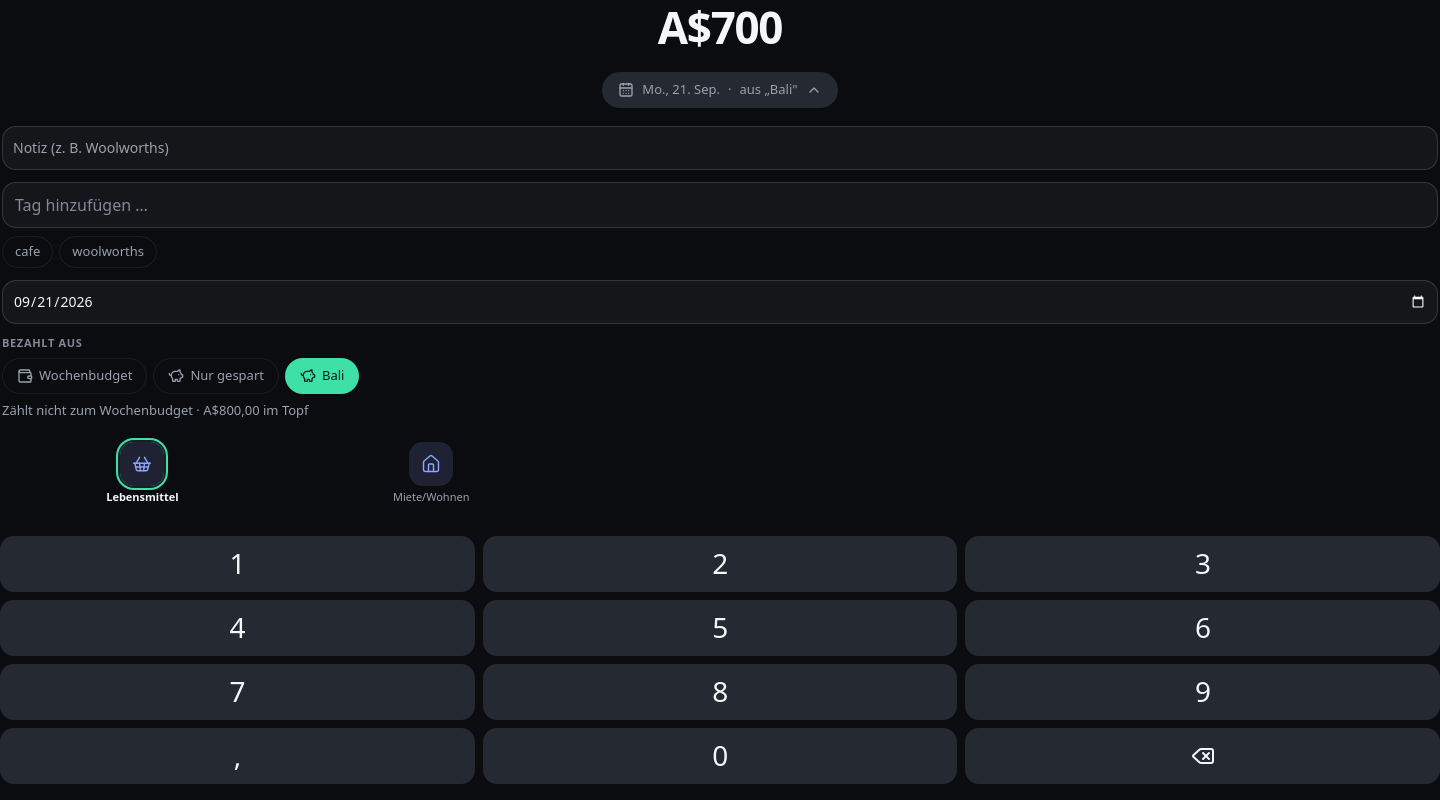
Scenario: ExpenseForm › paid from a pot ("aus Topf bezahlt") › gives an edited expense back what it already holds in its pot
This screenshot has width=1440, height=800.
Expected: the radio button labelled "Bali" is checked, [285,358,360,394]
Expected: the text "Zählt nicht zum Wochenbudget · A$800,00 im Topf" is shown, [2,401,309,419]
Click the button named "Löschen": (1203, 756) [965,728,1439,784]
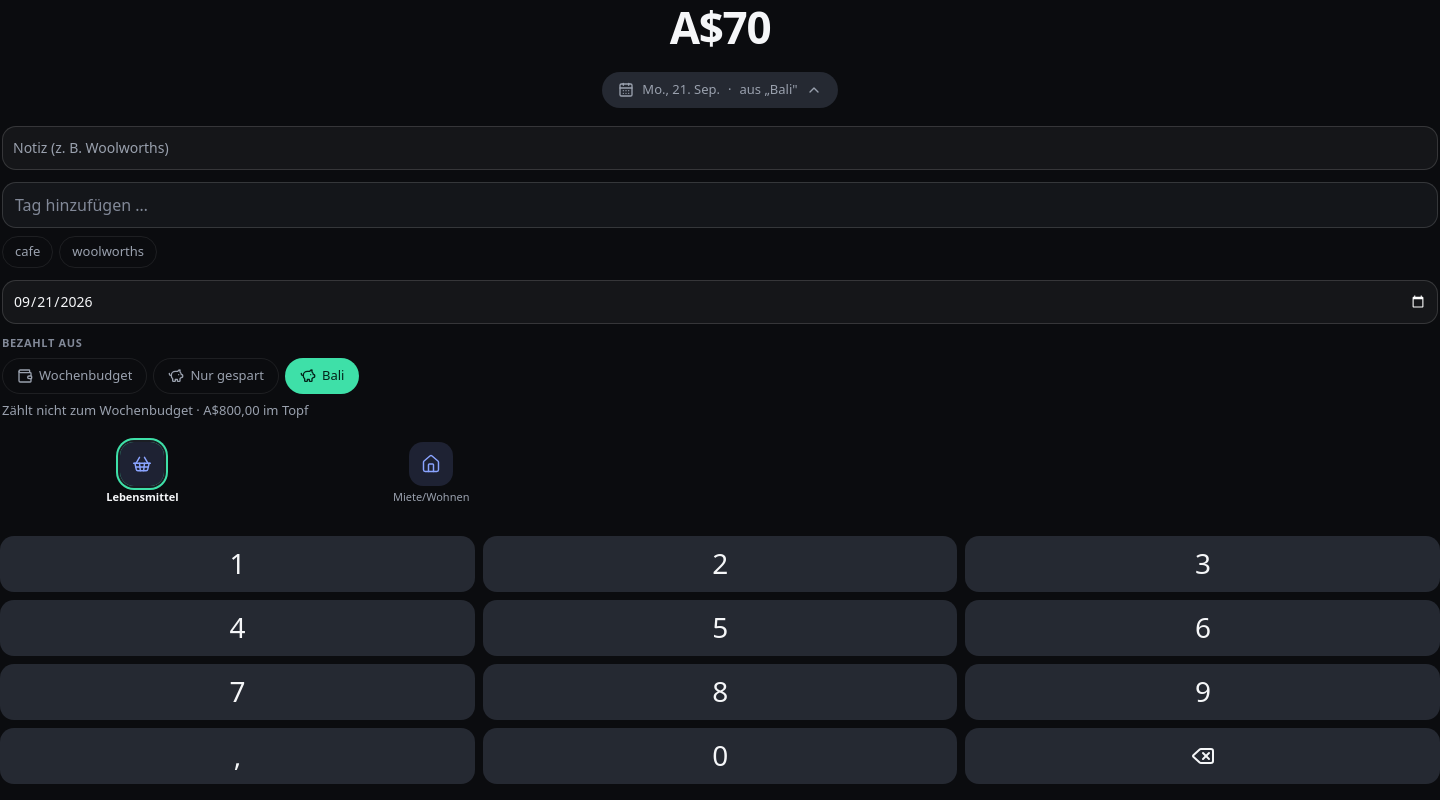
Click the button named "Löschen": (1203, 756) [965,728,1439,784]
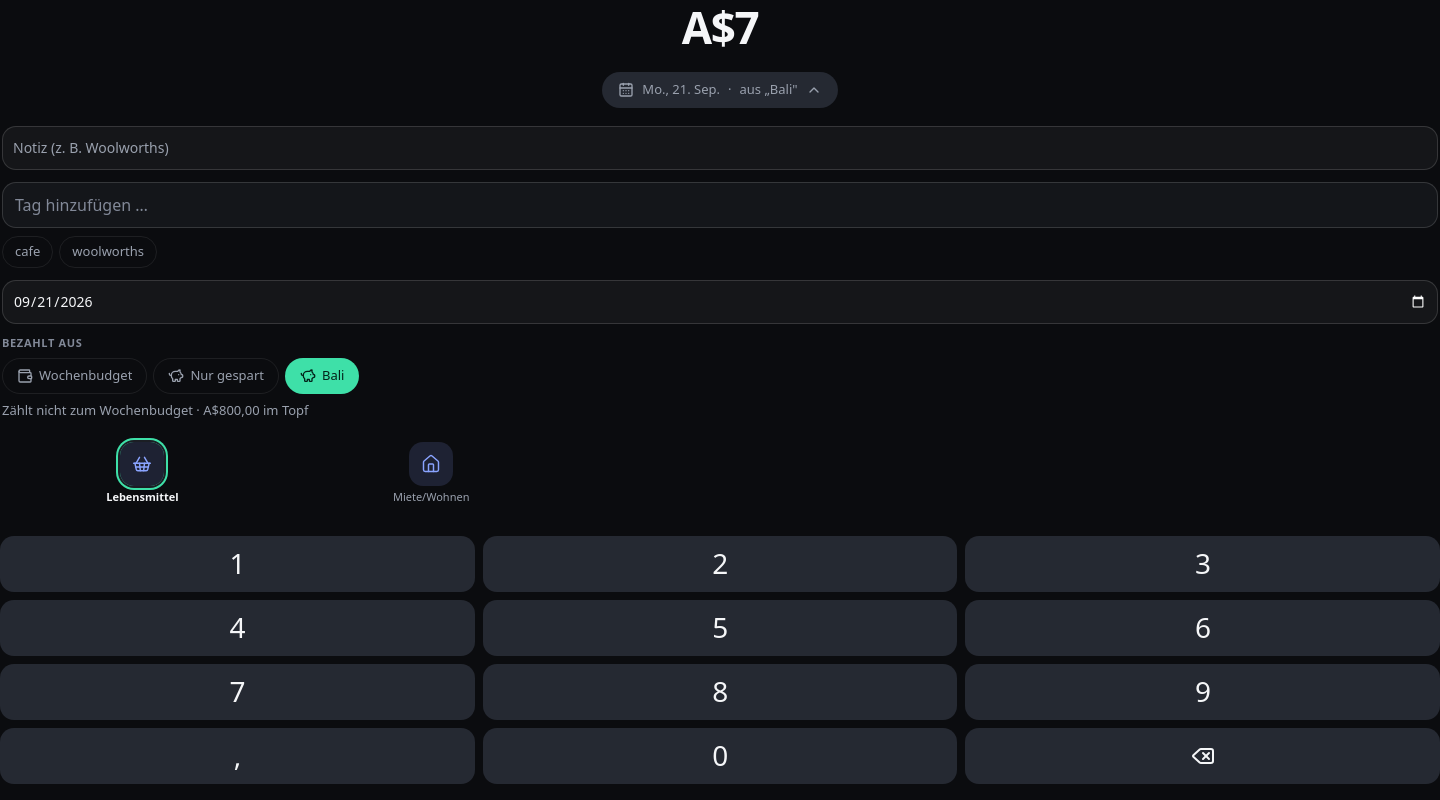
Click the button named "Löschen": (1203, 756) [965,728,1439,784]
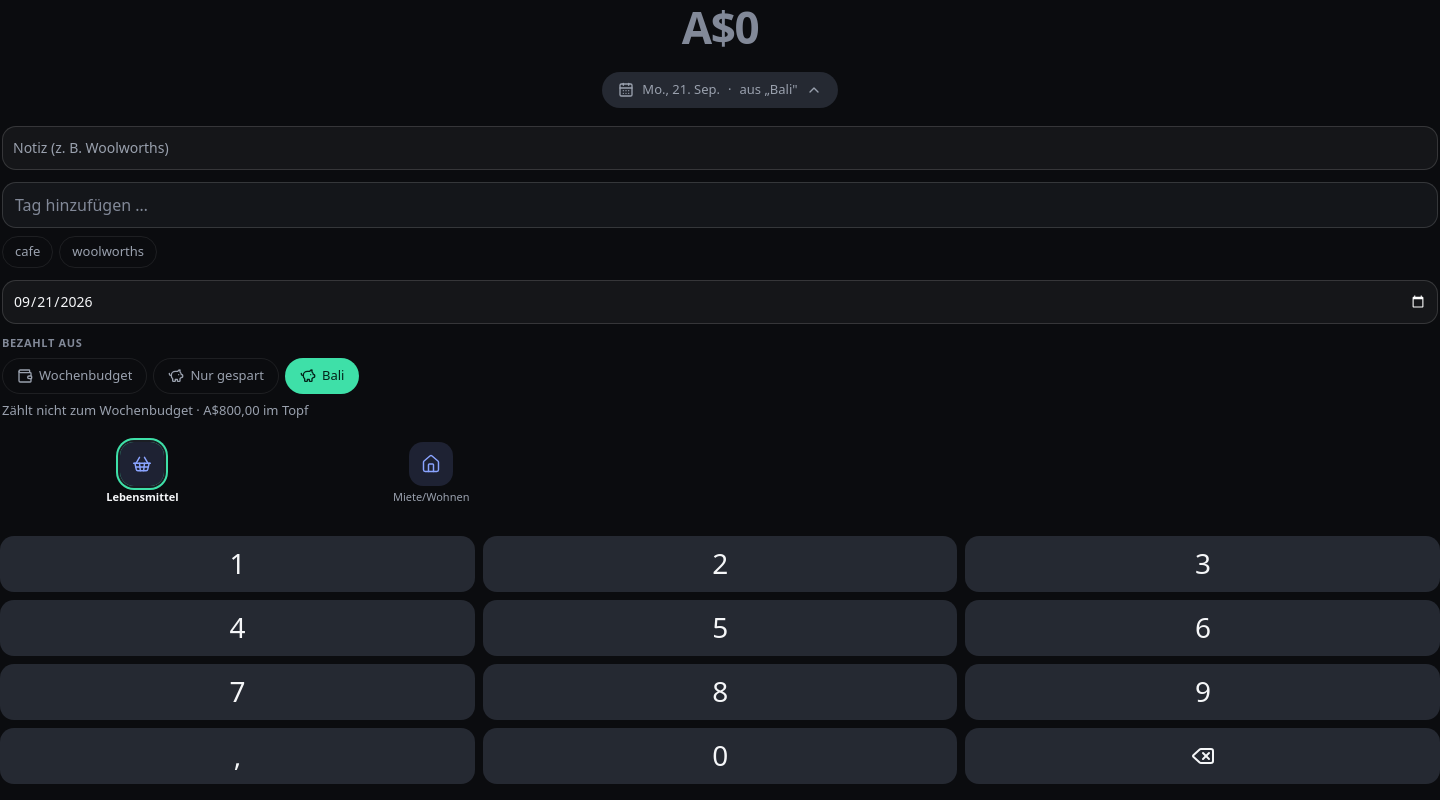
Click the button "8": (720, 692) [483,664,957,720]
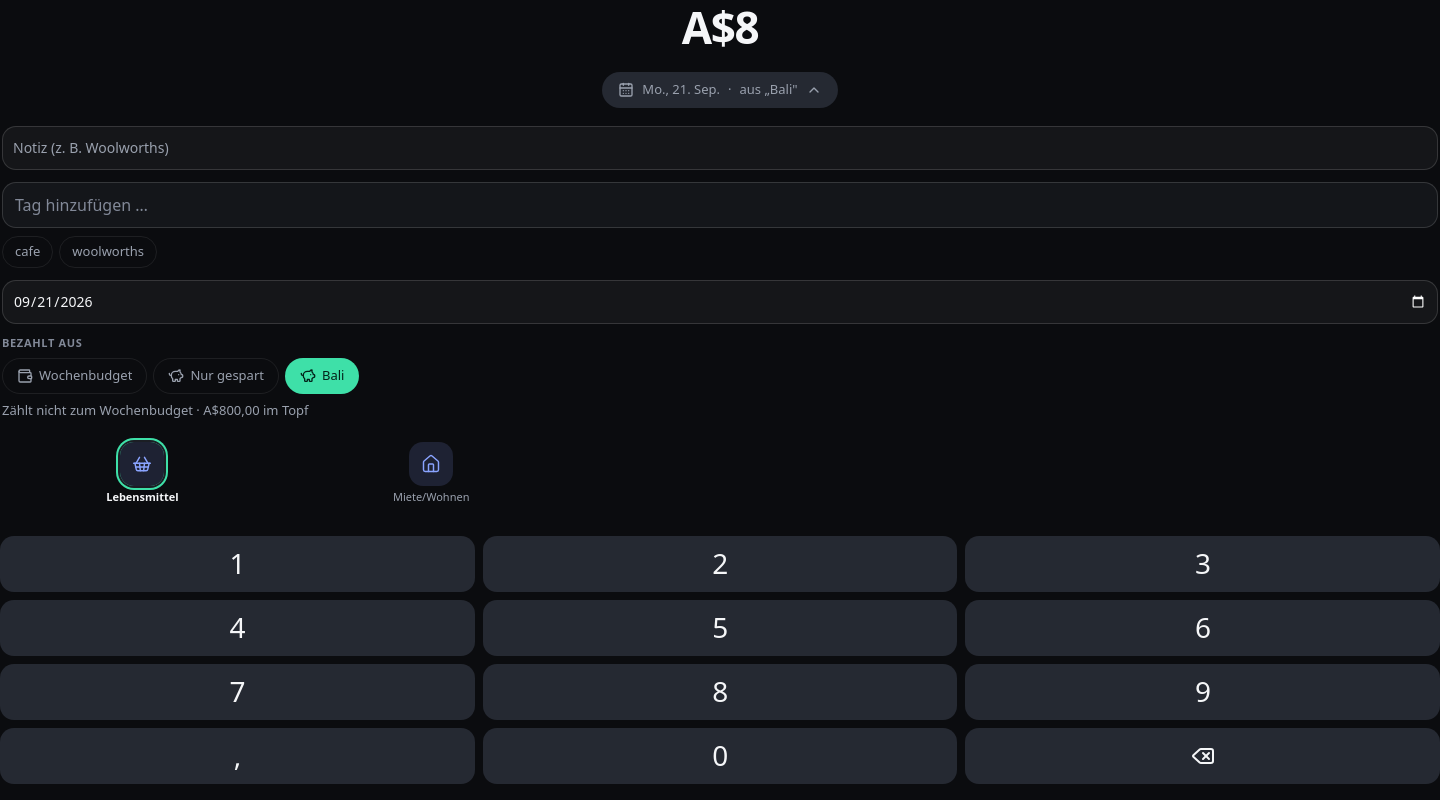
Click the button "0": (720, 756) [483,728,957,784]
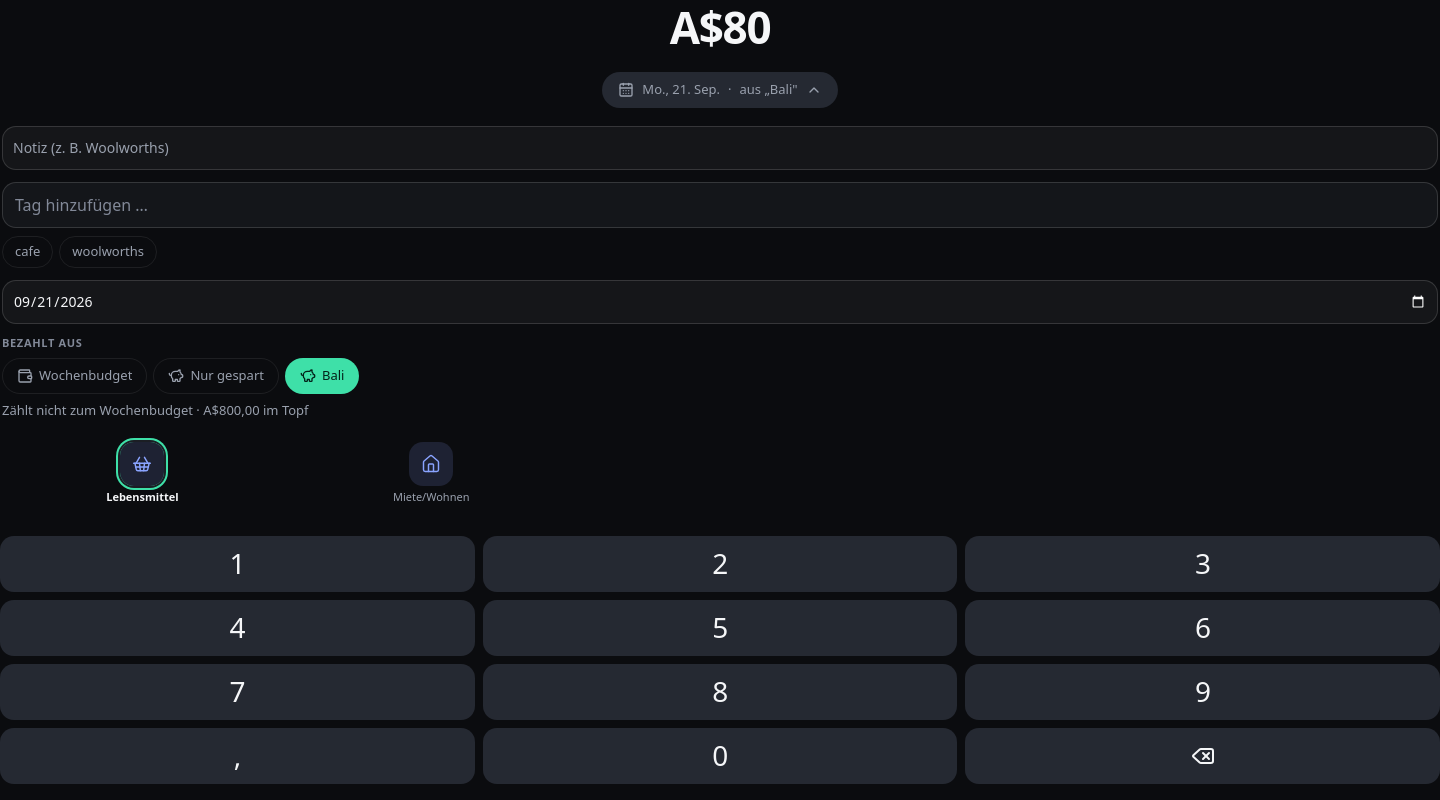
Click the button "1": (237, 564) [0,536,475,592]
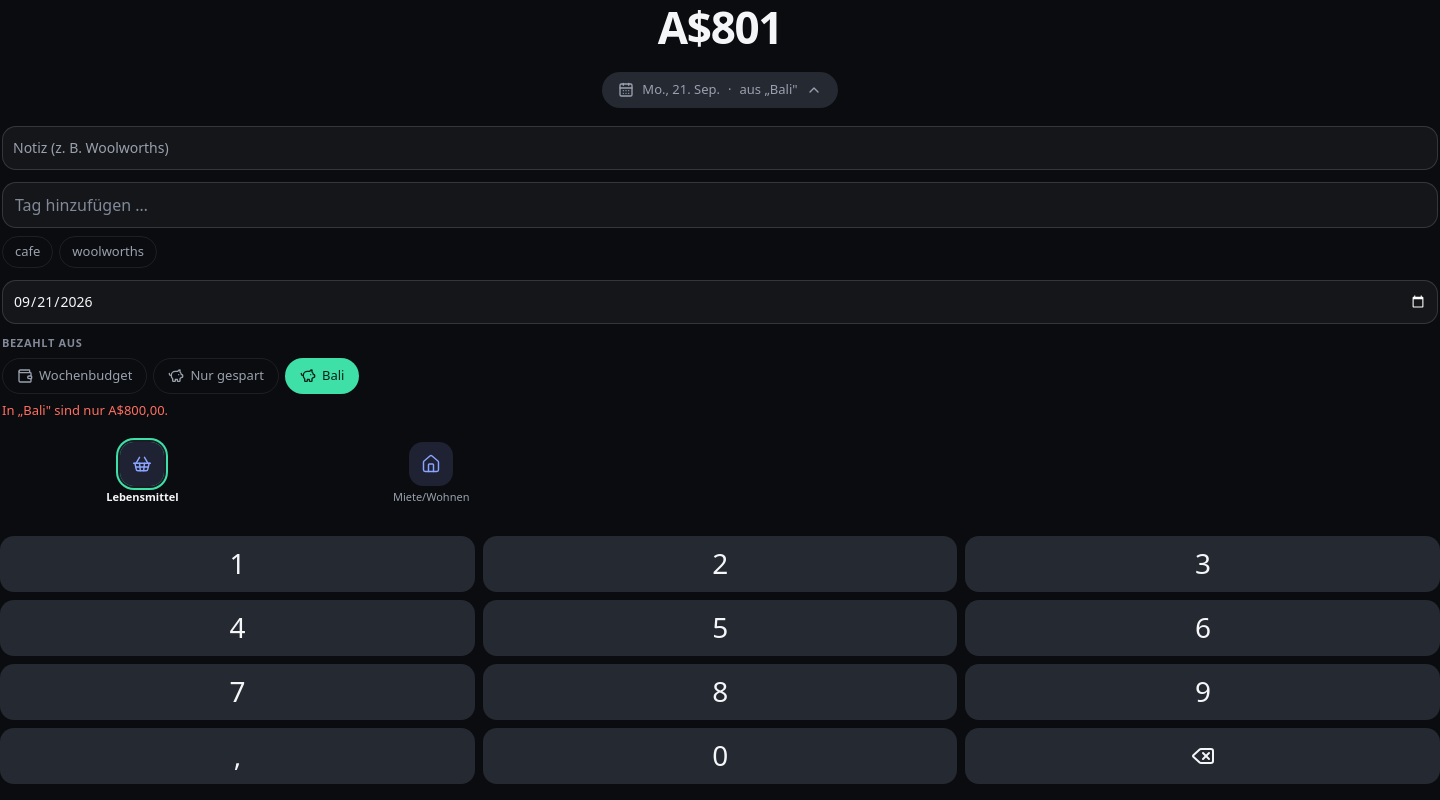
Expected: the message "In „Bali\" sind nur A$800,00." is shown, [2,401,168,419]
